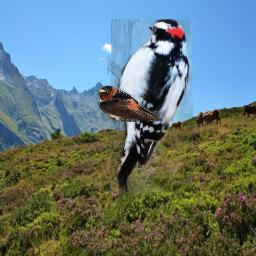Swallow: (97, 85, 160, 122)
Woodpecker: (107, 19, 194, 192)
